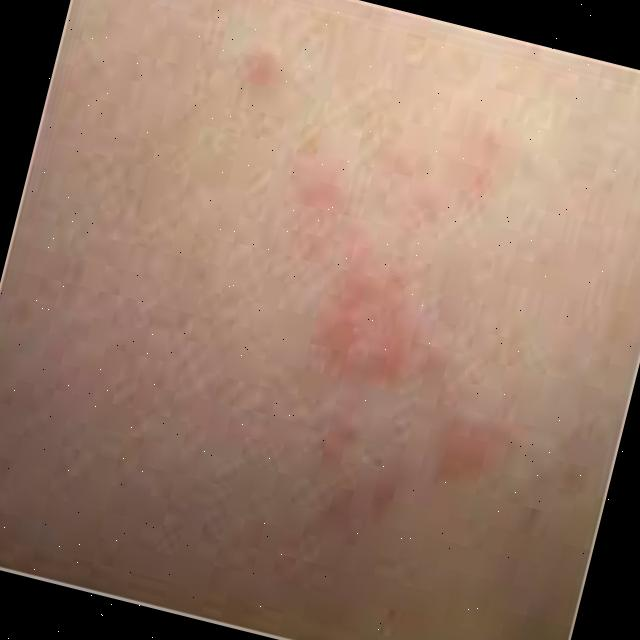kan emici bocekler: (307, 229, 475, 405), (428, 402, 517, 494), (232, 41, 295, 102), (291, 155, 349, 210)
